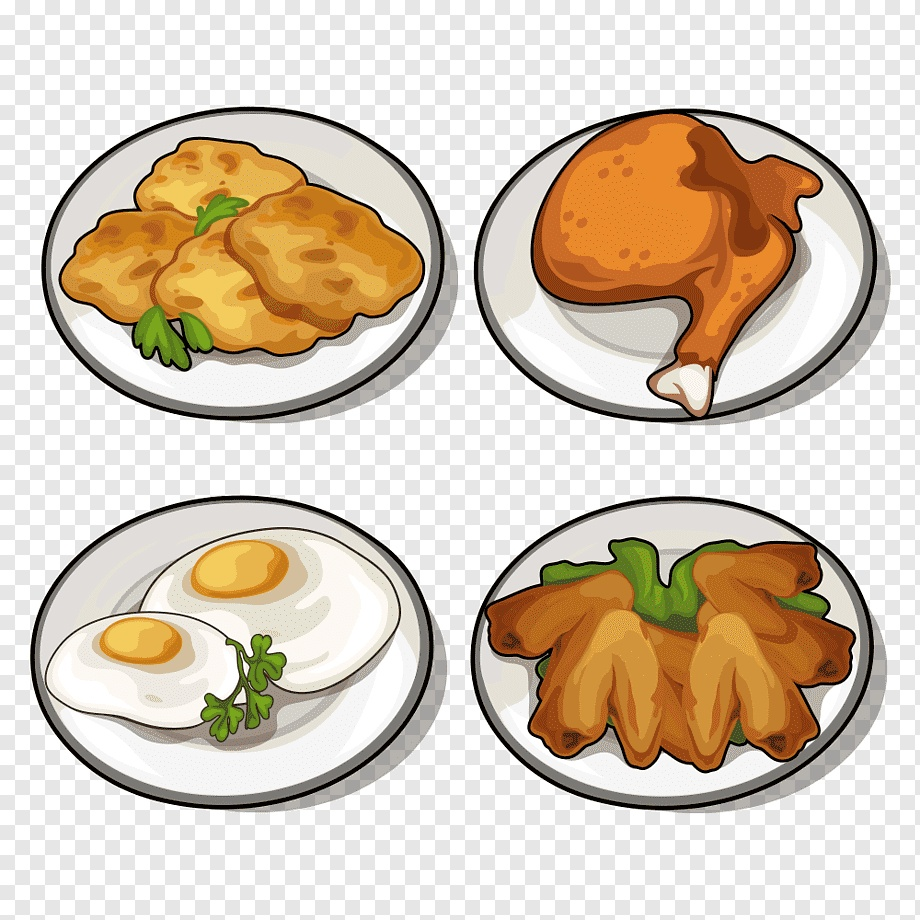ayam_goreng: (503, 89, 837, 426)
